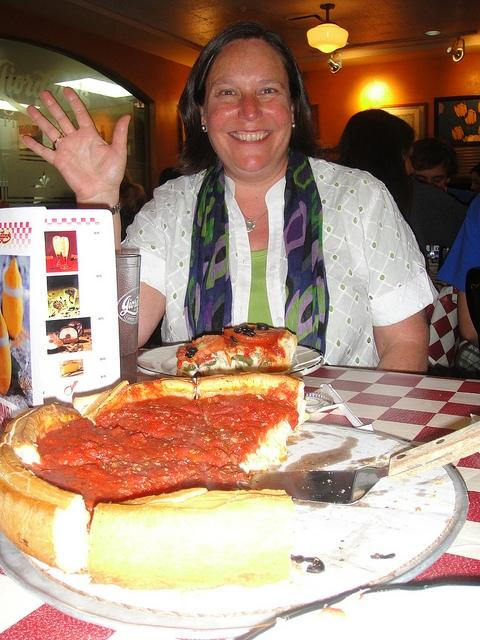bell pepper: (232, 354, 254, 366), (183, 365, 197, 372), (204, 361, 217, 366), (264, 360, 272, 366)
